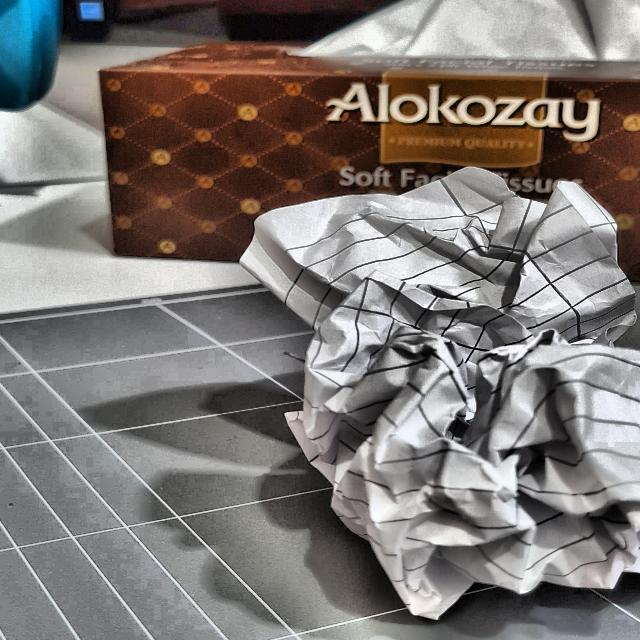paper: (244, 172, 640, 627)
